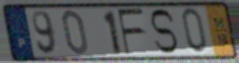0: (60, 9, 90, 57), (180, 7, 209, 56)
1: (103, 9, 123, 56)
9: (32, 10, 59, 56)
F: (115, 7, 146, 57)
S: (148, 8, 180, 56)
